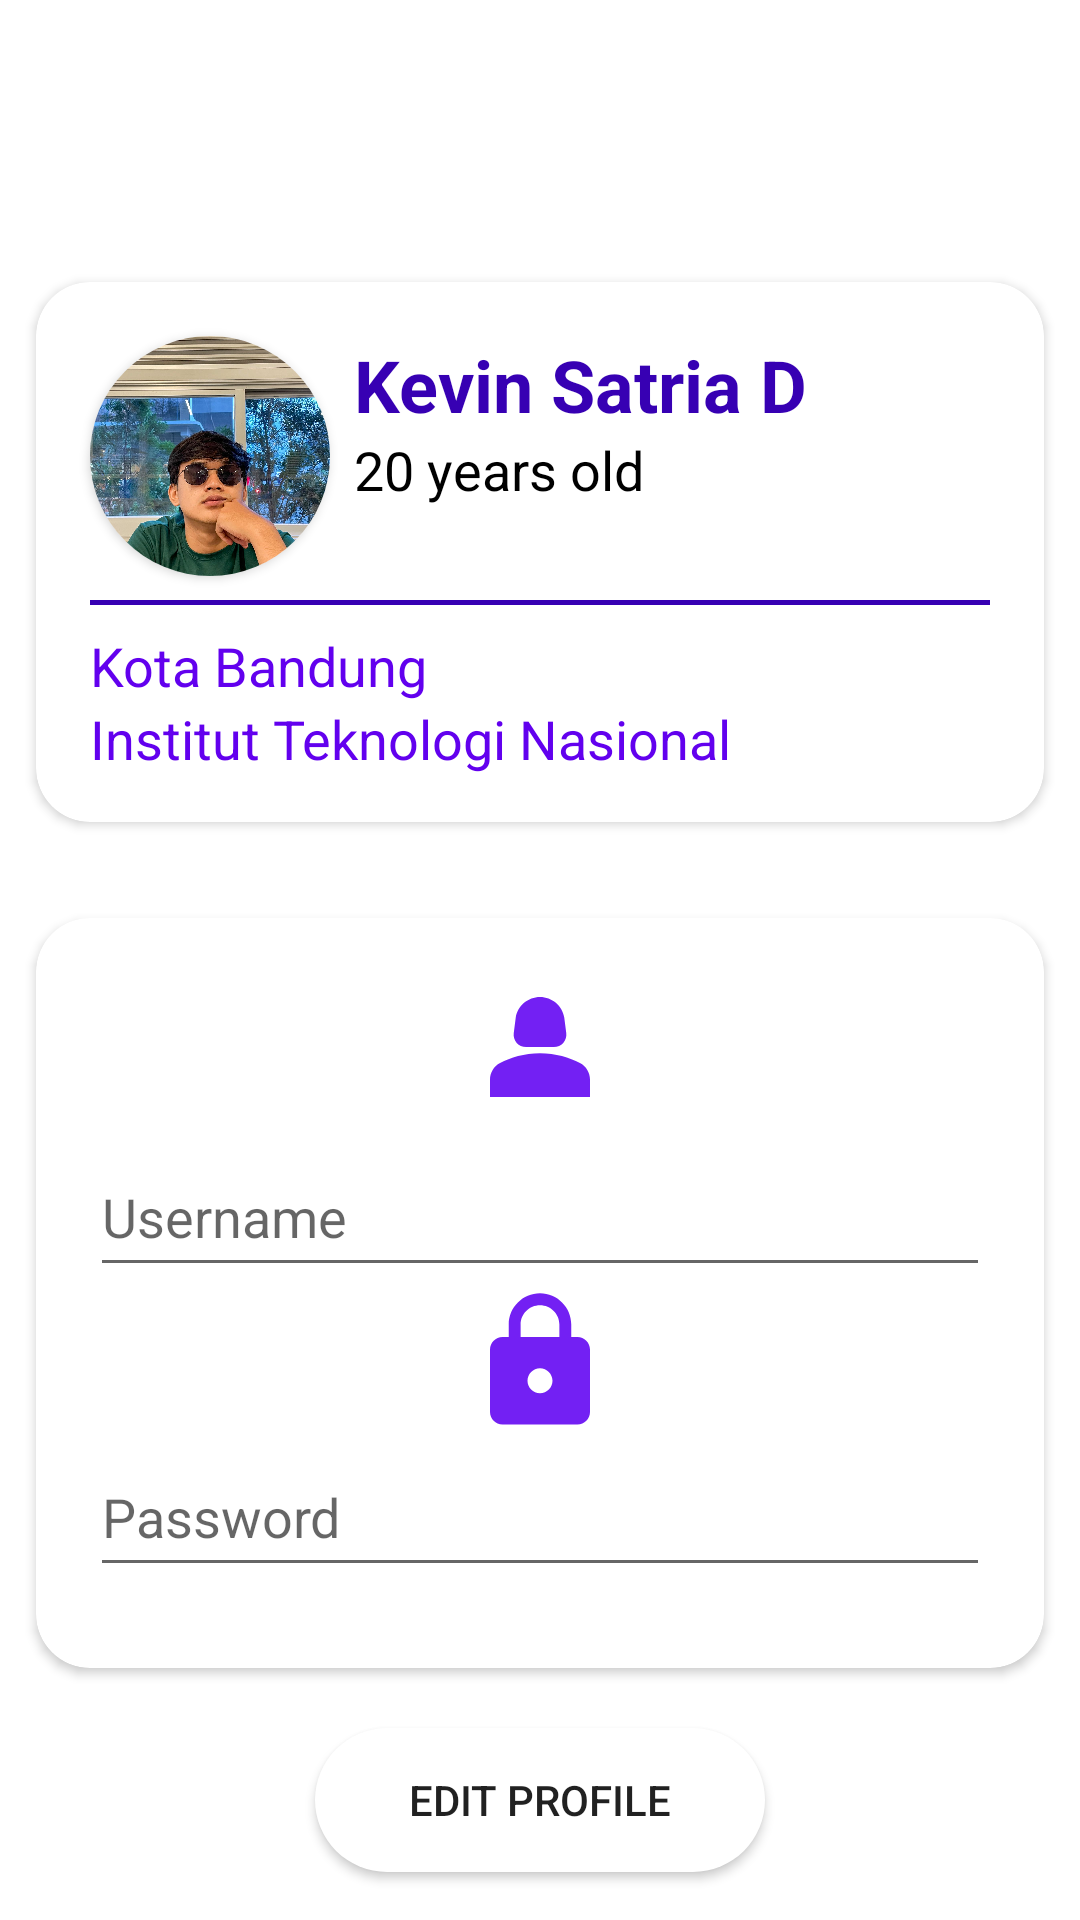

Named icons in this screenshot (1080×1920) and their bounding boxes, (x1, y1, x2, y2):
gembok: (490, 1293, 590, 1425)
person: (490, 997, 590, 1097)
